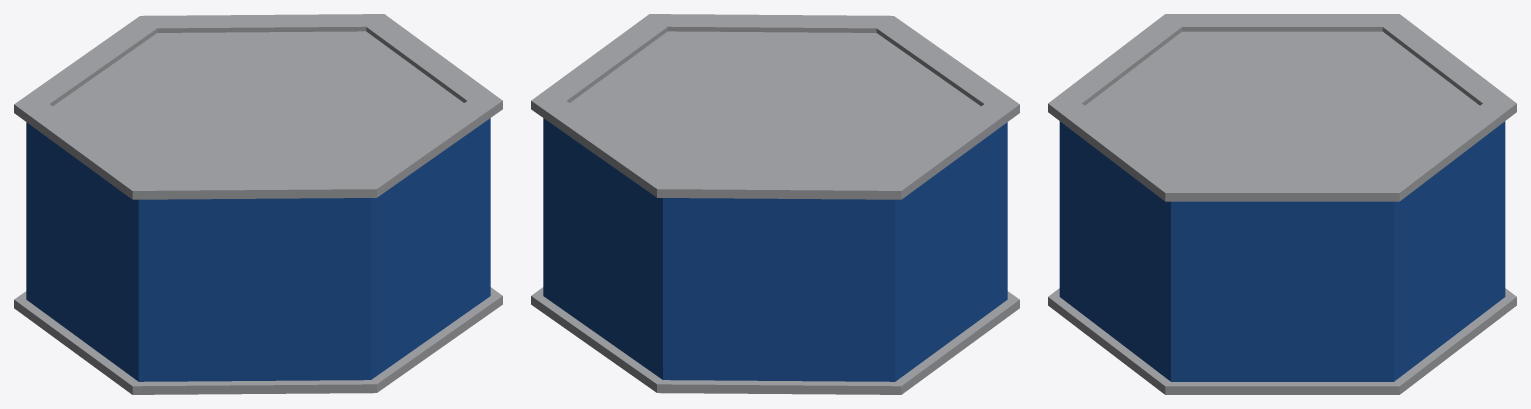
File: Can_Small.fbx
3 views of the same model, side by side, from view 1: azimuth 30°, elevation 25°; view 2: azimuth 150°, elevation 25°; view 3: azimuth 270°, elevation 25° (orthographic).
Visible parts, largest first — view 1: Can_Small; view 2: Can_Small; view 3: Can_Small.
Boxes of the visible parts, x1,y1,x2,y2 form: Can_Small: (14,14,502,394); Can_Small: (531,14,1019,394); Can_Small: (1048,14,1516,394).
Size of the model in its own units: 9.5 by 5 by 10.52.
